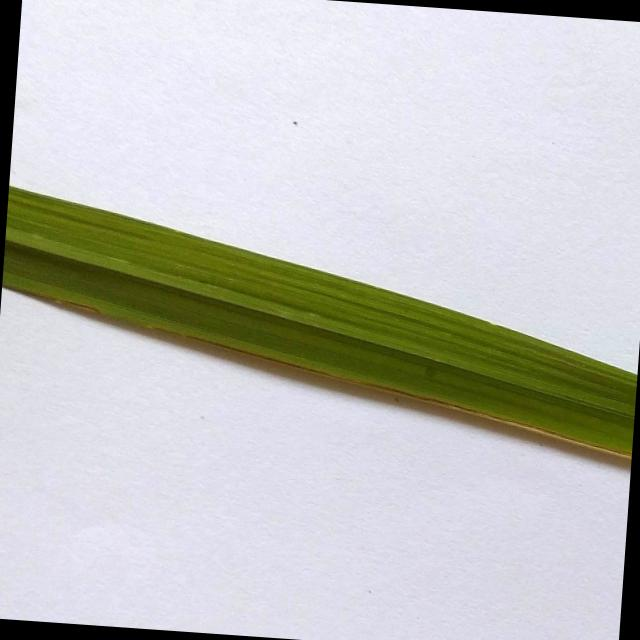Rice_Healthy: (2, 186, 637, 455)
